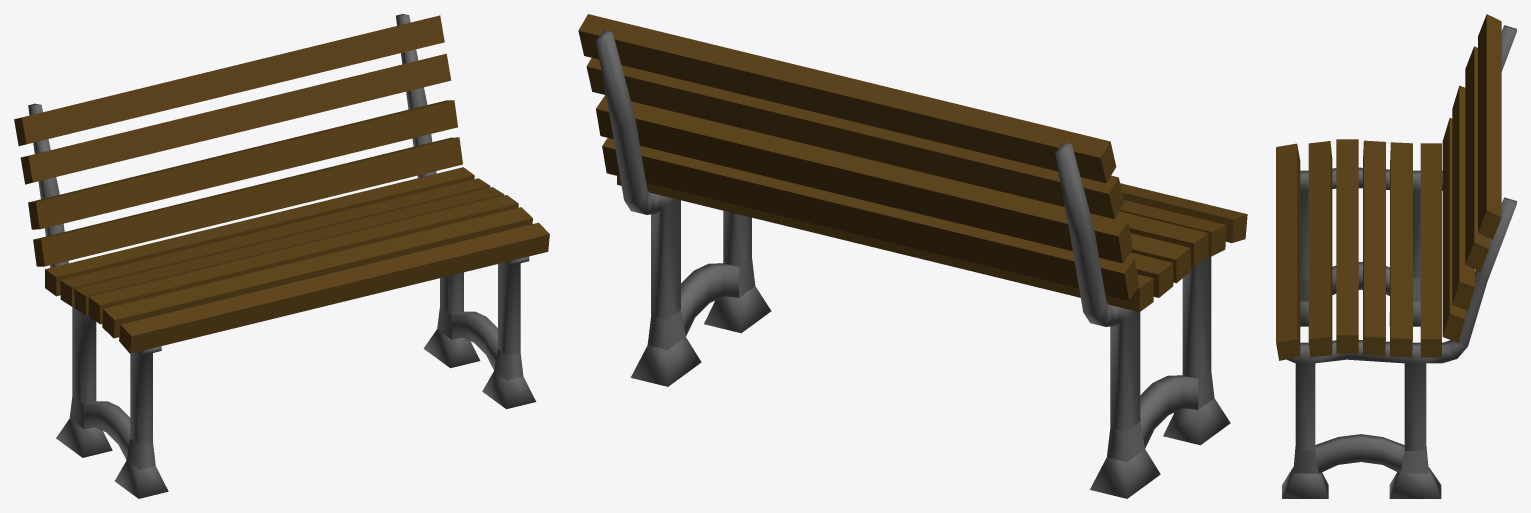
Rendered from InvertedParkBench.fbx.
3 views of the same model, side by side, from view 1: azimuth 30°, elevation 25°; view 2: azimuth 150°, elevation 25°; view 3: azimuth 270°, elevation 25° (orthographic). The views are drawn at different scales.
Parts seen in each view (by area): view 1: ParkBench; view 2: ParkBench; view 3: ParkBench.
Boxes of the visible parts, x1=… form: ParkBench: x1=14, y1=14, x2=549, y2=498; ParkBench: x1=578, y1=14, x2=1247, y2=498; ParkBench: x1=1276, y1=14, x2=1516, y2=498.
Bounding box in the file's own units: 163 × 114 × 84.53.
